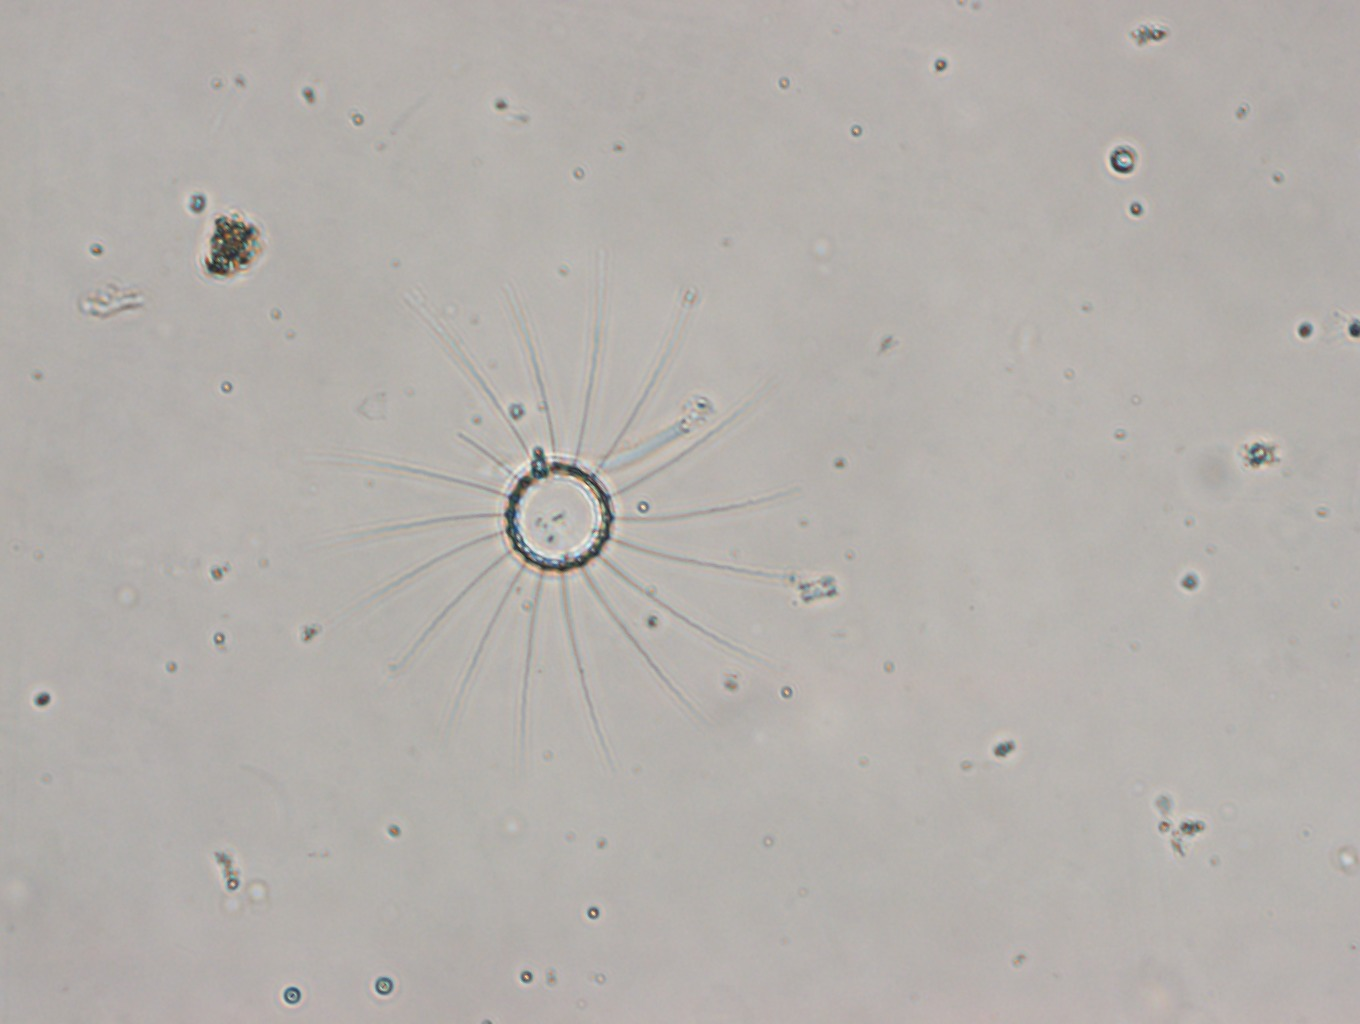bacteriastrum: (306, 274, 808, 767)
